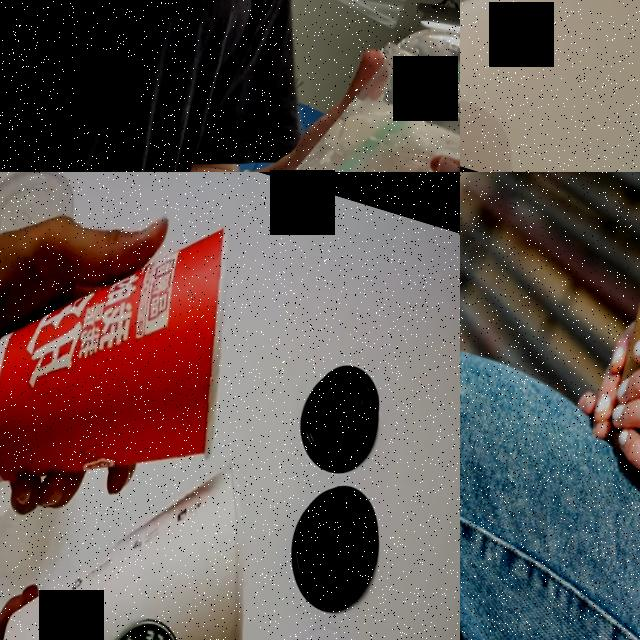cup: (0, 172, 276, 542), (0, 407, 300, 640), (276, 0, 460, 172), (590, 245, 640, 470)
